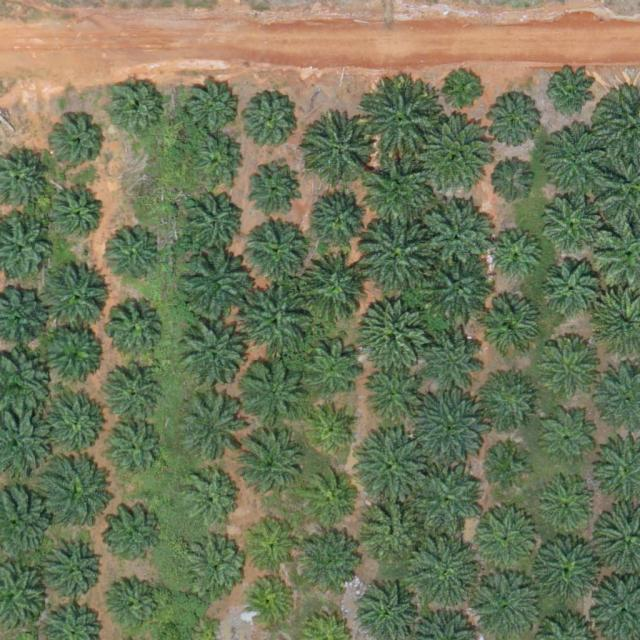Healthy: (363, 86, 441, 165), (532, 536, 603, 607), (425, 120, 496, 191), (359, 222, 430, 293), (357, 297, 428, 368), (473, 507, 543, 578), (414, 465, 484, 536), (414, 392, 485, 462), (426, 254, 496, 325), (365, 159, 435, 230), (362, 434, 432, 505), (298, 253, 368, 324), (239, 356, 309, 427), (237, 429, 307, 500), (180, 251, 250, 322), (43, 456, 113, 527), (39, 261, 109, 332), (544, 123, 614, 193), (412, 538, 482, 608), (422, 200, 492, 270), (294, 335, 364, 405), (242, 288, 312, 358), (424, 321, 487, 384), (239, 89, 302, 152), (179, 325, 242, 388), (182, 190, 245, 253), (99, 226, 162, 289), (102, 364, 165, 427), (480, 297, 542, 360), (364, 498, 427, 560), (312, 186, 374, 249), (309, 122, 371, 185), (247, 220, 310, 282), (182, 534, 245, 596), (177, 396, 239, 459), (103, 420, 165, 483), (46, 390, 108, 453), (41, 323, 103, 386), (105, 298, 167, 360), (486, 96, 541, 152), (301, 535, 356, 591), (541, 479, 596, 534), (544, 260, 599, 315), (543, 195, 598, 250), (487, 229, 542, 284), (361, 369, 416, 424), (301, 473, 356, 528), (244, 161, 299, 216), (183, 470, 238, 525), (193, 133, 248, 188), (108, 79, 163, 134), (105, 507, 160, 562), (48, 541, 103, 596), (47, 186, 102, 241), (545, 339, 599, 394), (483, 373, 537, 428), (186, 81, 240, 136), (53, 117, 107, 172), (108, 574, 162, 629), (547, 417, 594, 465)
Small: (306, 403, 361, 458), (543, 68, 598, 123), (487, 162, 534, 209), (488, 447, 528, 487), (446, 69, 485, 109)
Yellow: (245, 573, 300, 628), (246, 520, 300, 575)
